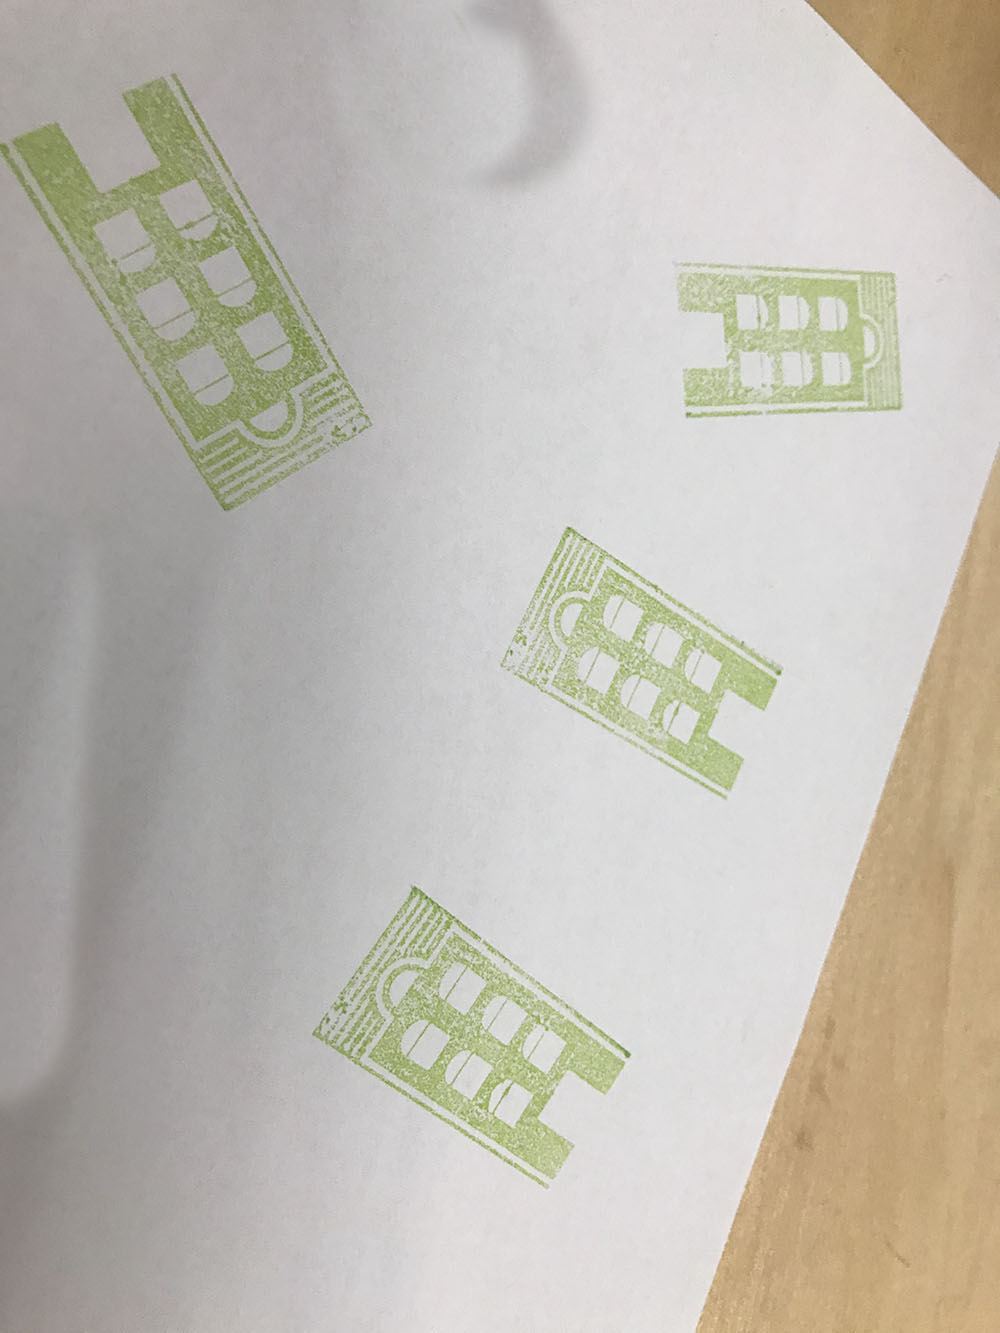build: (1, 51, 393, 530), (282, 868, 643, 1208), (468, 507, 803, 826), (636, 235, 928, 456)
